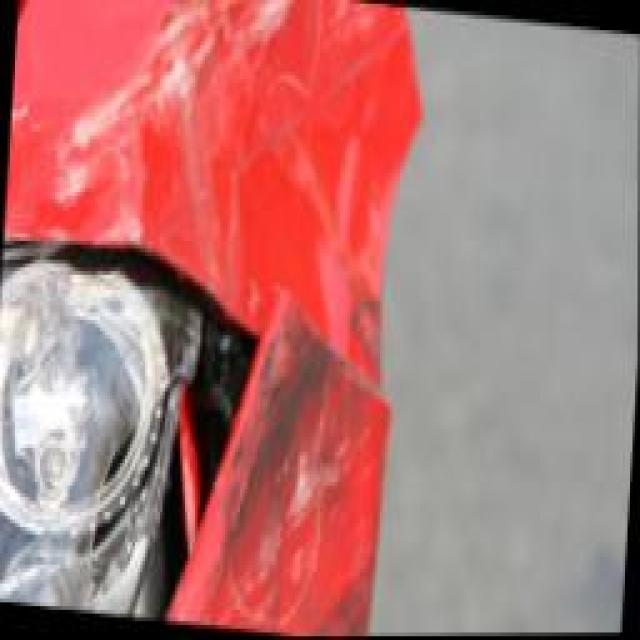Bumper: (195, 309, 394, 638)
Fender: (0, 0, 422, 335)
Light: (0, 252, 229, 623)
